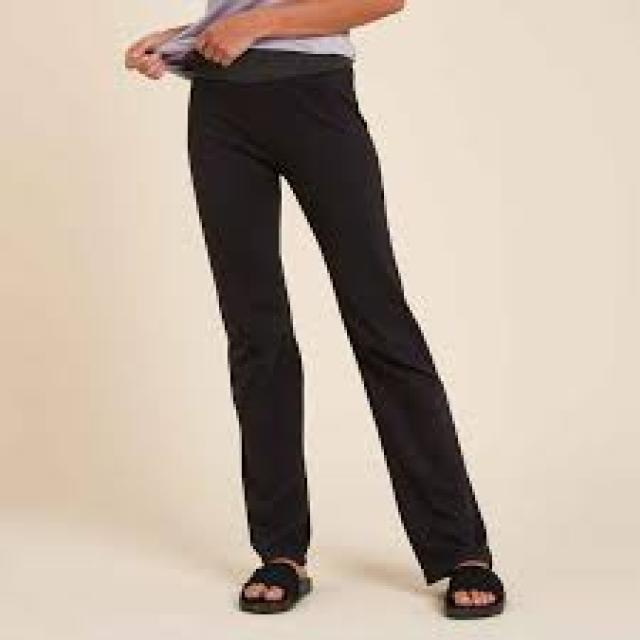pants: (163, 43, 500, 580)
